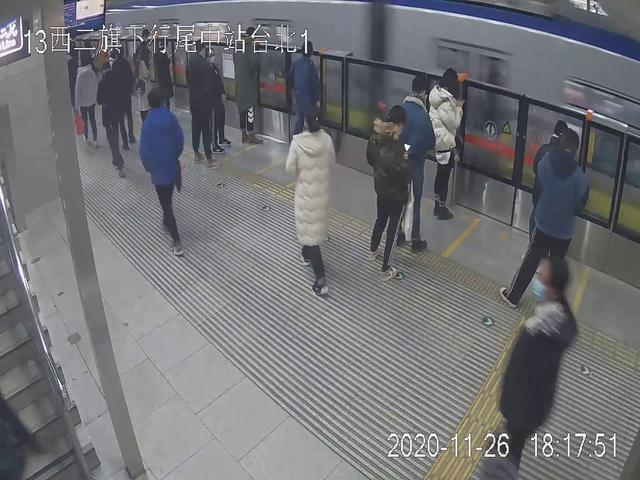person: (495, 255, 573, 480), (505, 128, 582, 306), (285, 105, 338, 302), (142, 87, 195, 263), (361, 105, 412, 282), (397, 69, 439, 252), (432, 64, 469, 221), (231, 27, 266, 146), (99, 59, 133, 178), (185, 41, 216, 159), (293, 37, 324, 148), (73, 52, 103, 147)
